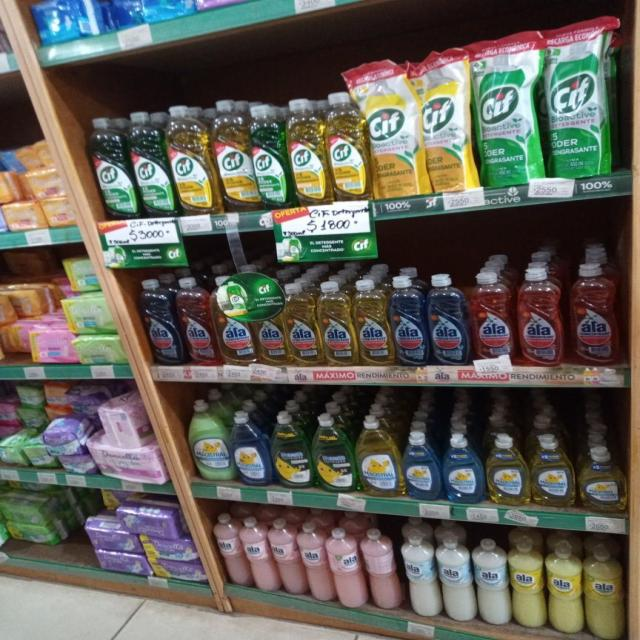ala_conc_amarillo: (354, 280, 390, 367), (320, 280, 354, 366), (285, 282, 318, 366), (255, 290, 284, 366)
ala_conc_azul: (428, 274, 468, 366), (138, 278, 178, 365), (391, 275, 426, 367)
ala_conc_rojo: (569, 262, 621, 367), (517, 266, 564, 368), (470, 272, 514, 366), (216, 276, 254, 366), (179, 276, 215, 365)
ala_crem_amarillo: (585, 539, 625, 639), (547, 538, 583, 634), (510, 534, 546, 628), (628, 538, 640, 640)
ala_crem_blanco: (402, 527, 438, 619), (439, 531, 473, 622), (475, 537, 509, 625)
ala_crem_rosado: (329, 528, 362, 608), (300, 522, 328, 602), (271, 518, 299, 596), (216, 514, 243, 588), (244, 517, 270, 592)
cif_conc_bot_amarilla: (213, 100, 253, 214), (170, 105, 211, 216), (328, 91, 367, 202), (290, 98, 326, 206)
cif_conc_botella_verde: (89, 116, 132, 220), (132, 110, 169, 218), (253, 102, 288, 210)
cif_conc_sachet_amarillo: (421, 48, 473, 194), (367, 59, 420, 198)
cif_conc_sachet_verde: (548, 17, 614, 178), (476, 32, 543, 186)
magistral_con_amarillo: (358, 416, 400, 497), (578, 445, 626, 513), (531, 434, 575, 508), (486, 434, 528, 506)
magistral_con_azul: (232, 410, 270, 486), (444, 432, 484, 504), (402, 430, 440, 501)
magistral_con_crema: (187, 399, 229, 482)
magistral_con_verde: (272, 411, 311, 489)
